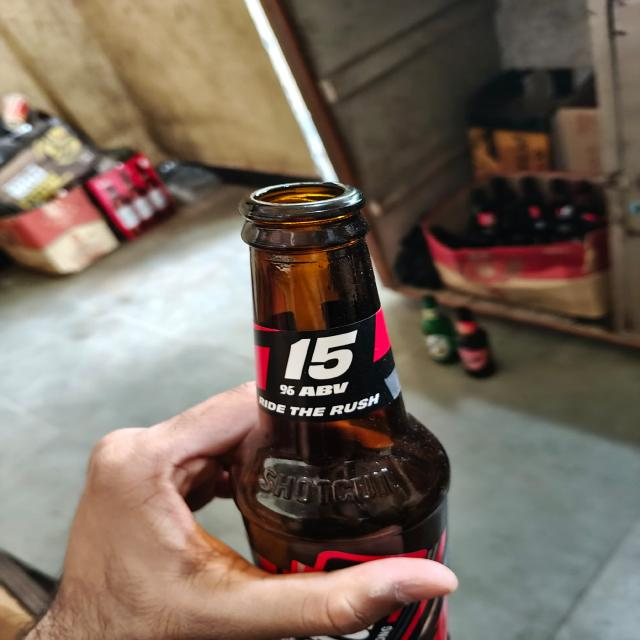Alcohol-Bottle-Detection: (212, 180, 450, 560)
